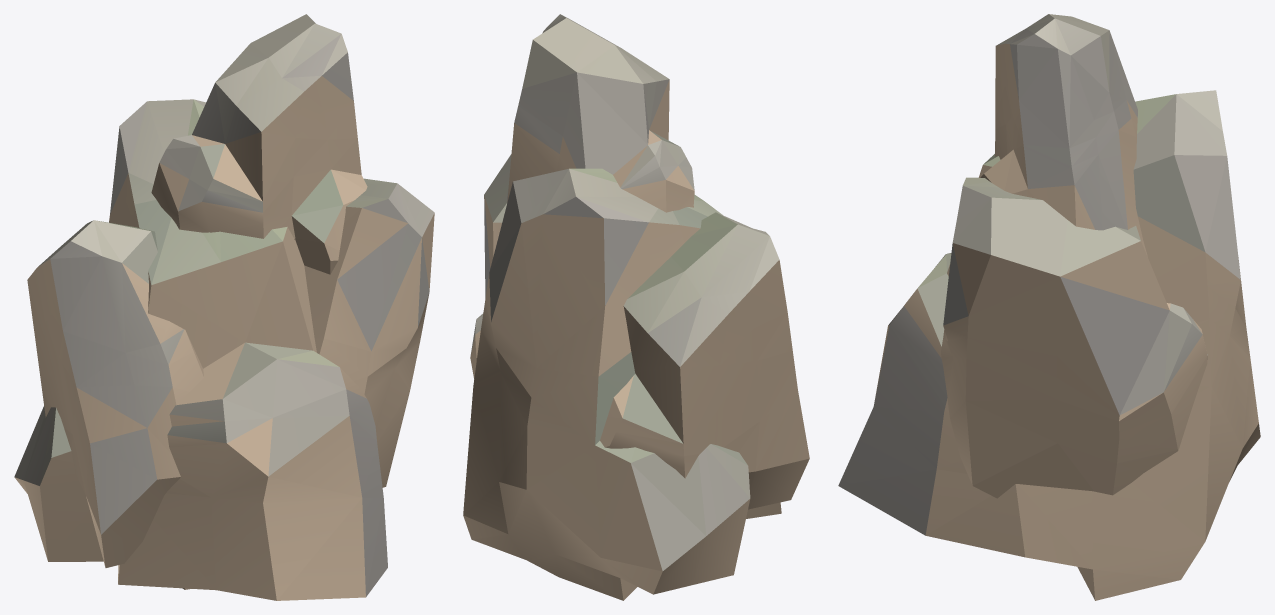
Rendered from mesa_2.glb.
3 views of the same model, side by side, from view 1: azimuth 30°, elevation 25°; view 2: azimuth 150°, elevation 25°; view 3: azimuth 270°, elevation 25° (orthographic). The views are drawn at different scales.
Visible parts, largest first — view 1: mesa_2; view 2: mesa_2; view 3: mesa_2.
Part boxes in pixels (x1,y1,x2,y2): mesa_2: [14, 14, 434, 600]; mesa_2: [463, 14, 809, 600]; mesa_2: [838, 14, 1260, 600].
Size of the model in its own units: 19.27 by 30 by 20.5.
